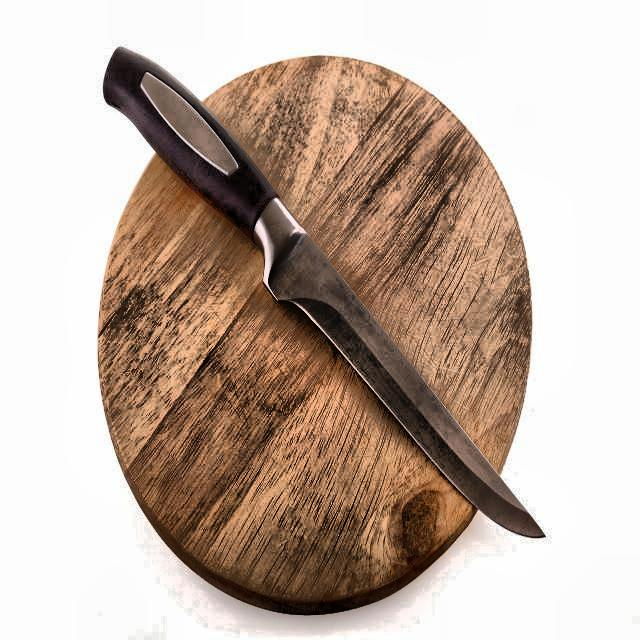knife: (98, 39, 548, 550)
